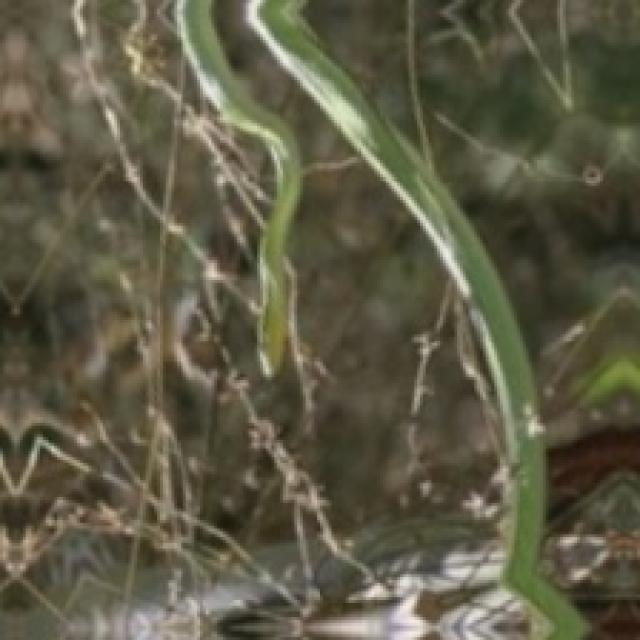red-tailed green ratsnake: (246, 0, 586, 637), (177, 0, 300, 371)
